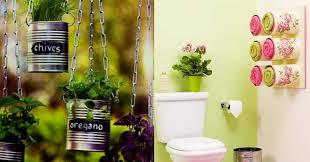Tin: (30, 19, 71, 83), (64, 95, 111, 150)
